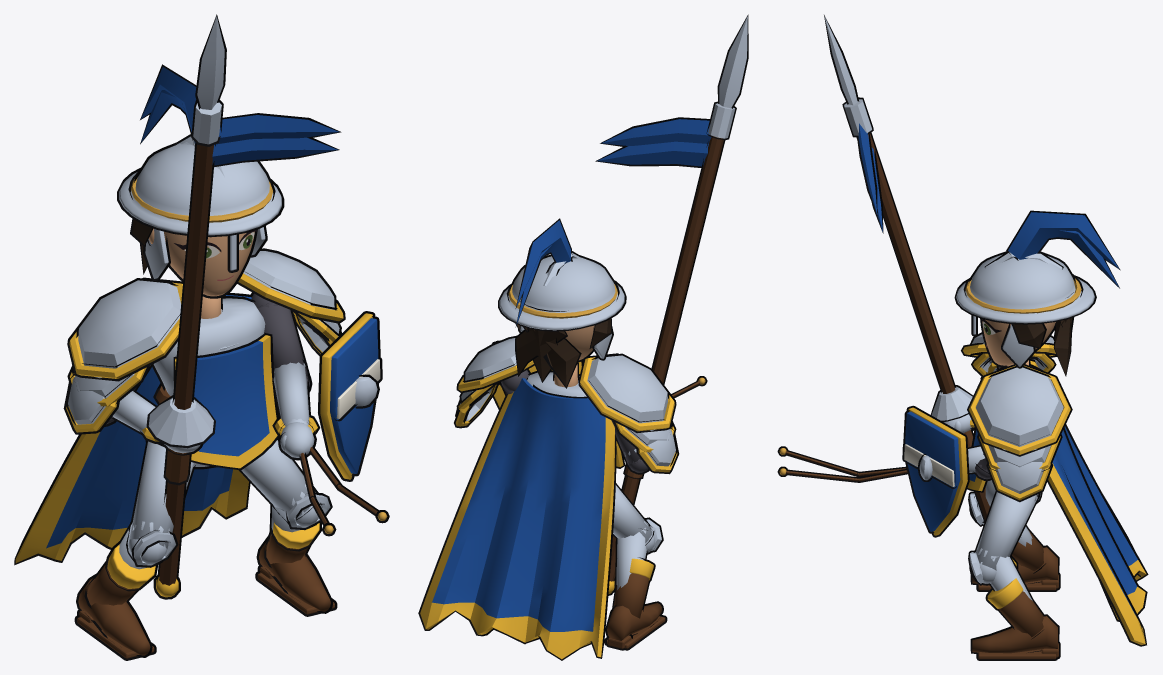
The model's file is cavalier.glb.
3 views of the same model, side by side, from view 1: azimuth 30°, elevation 25°; view 2: azimuth 150°, elevation 25°; view 3: azimuth 270°, elevation 25° (orthographic). The views are drawn at different scales.
Visible parts, largest first — view 1: fore_r, head, cape, torso, arm_r, fore_l, arm_l, shin_r, shin_l, fore_r_ink, thigh_r, fore_l_ink (+8 smaller); view 2: cape, head, fore_r, arm_r, shin_r, arm_l, fore_r_ink, head_ink, cape_ink, arm_r_ink, thigh_r, arm_l_ink (+2 smaller); view 3: head, arm_l, cape, fore_r, fore_l, shin_l, thigh_l, fore_r_ink, head_ink, shin_r, cape_ink, fore_l_ink (+3 smaller).
Part boxes in pixels (bbox=[...]): fore_r: bbox=[113, 16, 338, 597]; head: bbox=[119, 67, 281, 318]; cape: bbox=[15, 295, 251, 562]; torso: bbox=[153, 298, 277, 468]; arm_r: bbox=[66, 280, 182, 432]; fore_l: bbox=[273, 313, 387, 533]; arm_l: bbox=[238, 251, 343, 386]; shin_r: bbox=[77, 521, 175, 658]; shin_l: bbox=[257, 484, 334, 614]; fore_r_ink: bbox=[113, 14, 341, 599]; thigh_r: bbox=[128, 441, 194, 564]; fore_l_ink: bbox=[272, 311, 389, 536]; cape: bbox=[420, 378, 614, 659]; head: bbox=[499, 220, 624, 387]; fore_r: bbox=[597, 16, 747, 593]; arm_r: bbox=[580, 355, 677, 472]; shin_r: bbox=[607, 519, 665, 648]; arm_l: bbox=[455, 338, 533, 426]; fore_r_ink: bbox=[595, 14, 748, 595]; head_ink: bbox=[498, 218, 626, 388]; cape_ink: bbox=[418, 378, 616, 660]; arm_r_ink: bbox=[578, 353, 679, 474]; thigh_r: bbox=[613, 485, 655, 552]; arm_l_ink: bbox=[454, 335, 534, 428]; head: bbox=[956, 212, 1118, 374]; arm_l: bbox=[969, 365, 1070, 500]; cape: bbox=[1048, 426, 1146, 644]; fore_r: bbox=[824, 16, 1016, 566]; fore_l: bbox=[779, 407, 984, 535]; shin_l: bbox=[969, 548, 1058, 659]; thigh_l: bbox=[975, 492, 1038, 583]; fore_r_ink: bbox=[824, 15, 1018, 569]; head_ink: bbox=[954, 210, 1120, 376]; shin_r: bbox=[969, 493, 1058, 590]; cape_ink: bbox=[1030, 364, 1148, 646]; fore_l_ink: bbox=[777, 405, 980, 537].
Bounding box in the file's own units: 0.7075 × 1.8 × 1.07.
